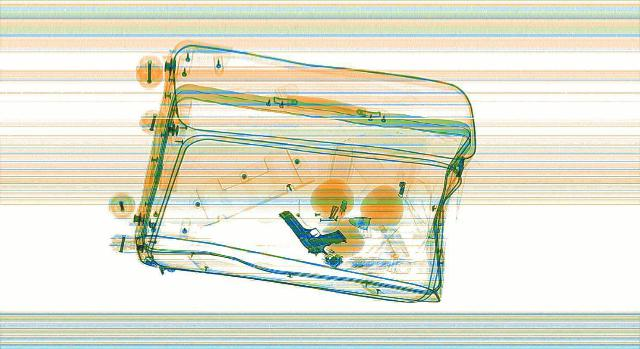Gun: (274, 203, 354, 256)
